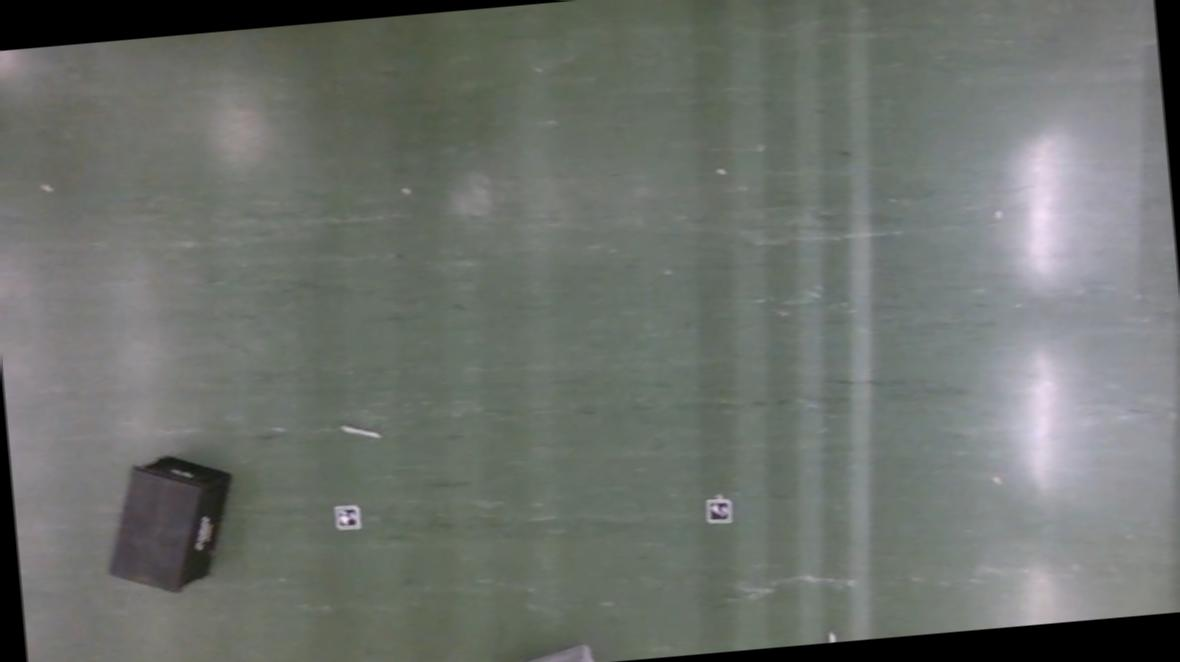probes: (342, 422, 380, 440), (825, 630, 837, 642)
rako: (97, 447, 240, 596), (504, 640, 605, 662)
